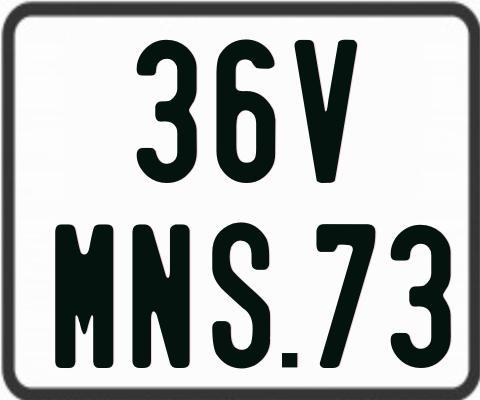3: (389, 223, 455, 371), (137, 40, 198, 189)
6: (213, 37, 272, 185)
7: (316, 222, 379, 369)
M: (52, 224, 116, 368)
N: (131, 224, 193, 368)
S: (210, 220, 269, 366)
V: (294, 40, 359, 183)
